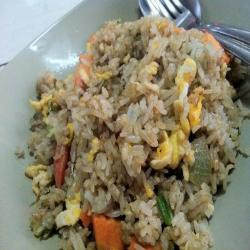rice: (26, 28, 236, 245)
